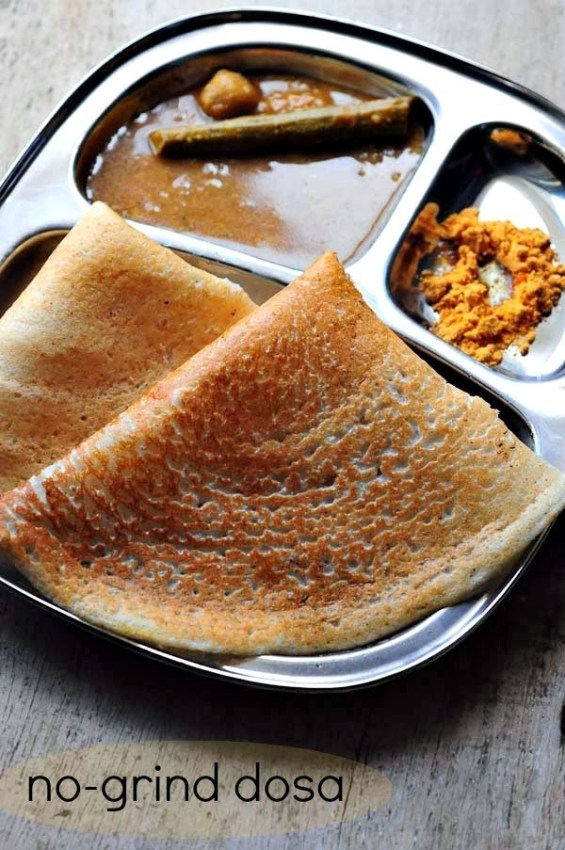dosa: (6, 198, 565, 658)
